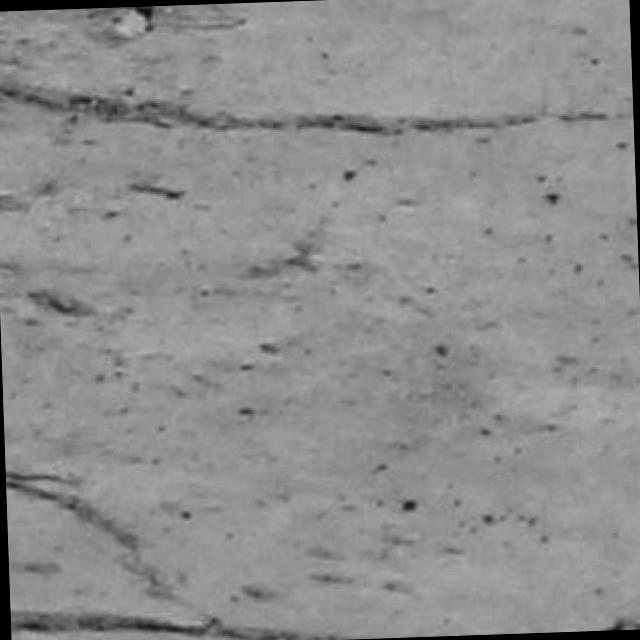crack: (0, 83, 622, 135), (6, 471, 174, 599), (10, 611, 366, 639), (10, 611, 360, 639)
